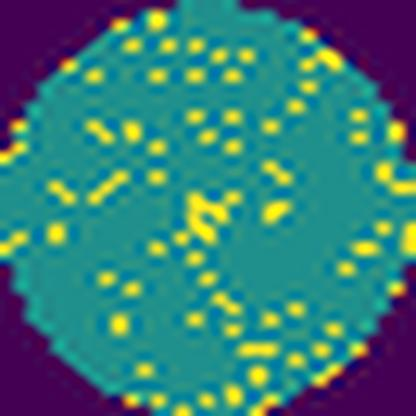Center: (180, 181, 249, 244)
